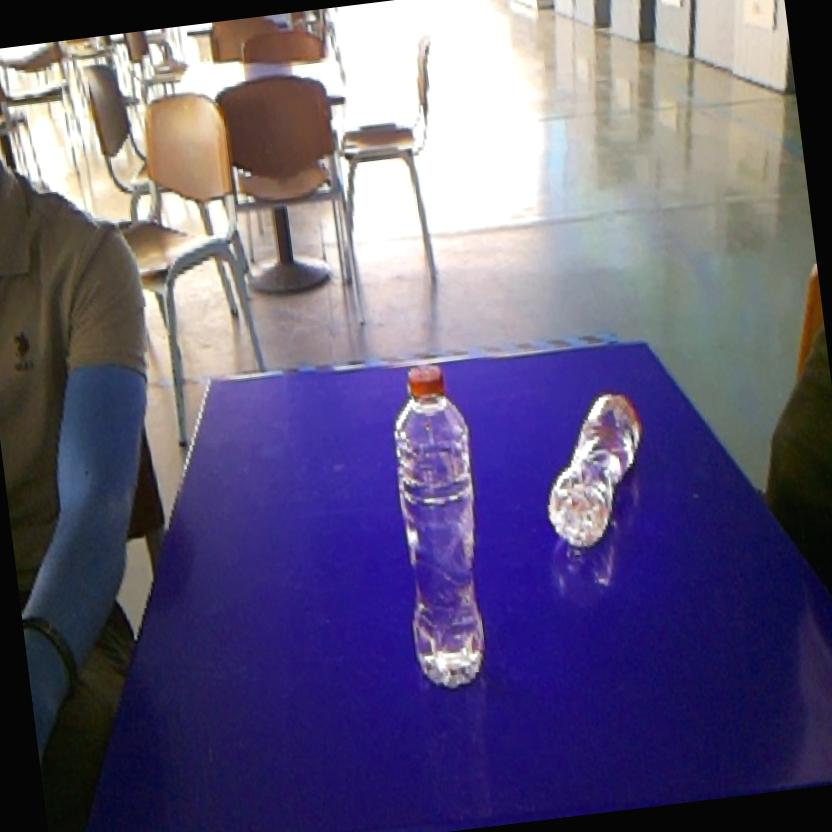no_label: (368, 345, 510, 701)
